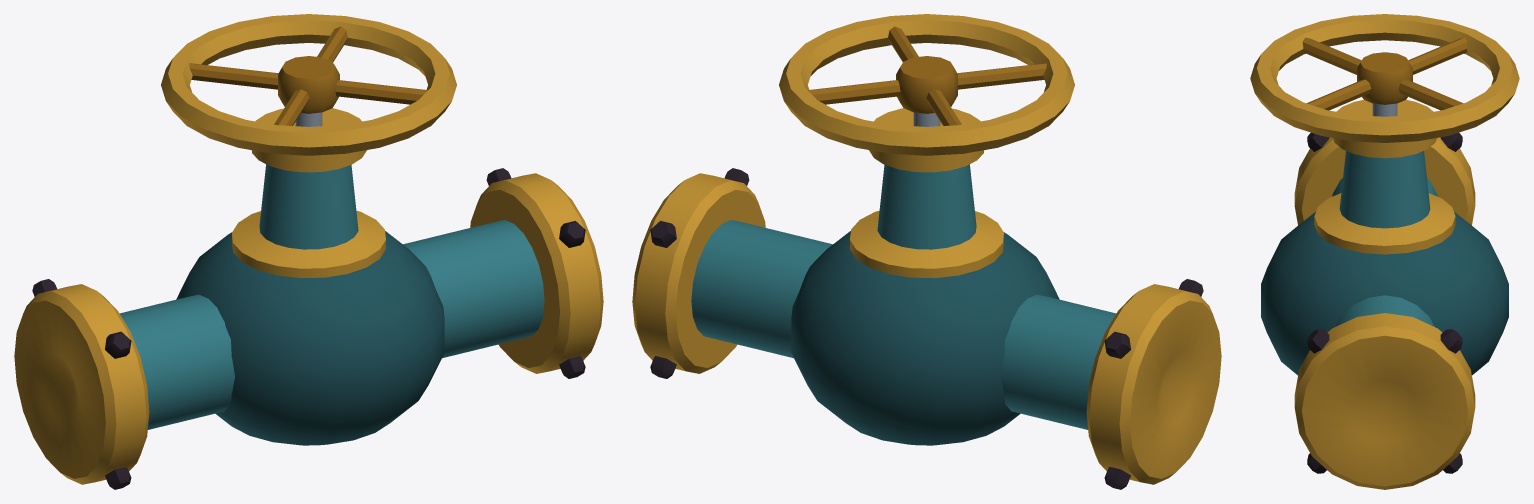
The model's file is Valve_23.glb.
3 renders of one model, left to right at view 1: azimuth 30°, elevation 25°; view 2: azimuth 150°, elevation 25°; view 3: azimuth 270°, elevation 25°, orthographic. The views are drawn at different scales.
Parts seen in each view (by area): view 1: Valve_23; view 2: Valve_23; view 3: Valve_23.
Boxes of the visible parts, x1,y1,x2,y2 form: Valve_23: [14, 14, 603, 489]; Valve_23: [632, 14, 1221, 489]; Valve_23: [1250, 14, 1519, 489].
Size of the model in its own units: 2.97 by 2.08 by 1.53.
